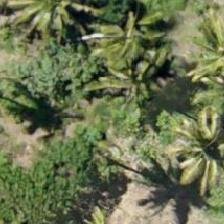coconut_tree: (163, 108, 223, 198), (8, 0, 98, 52)
